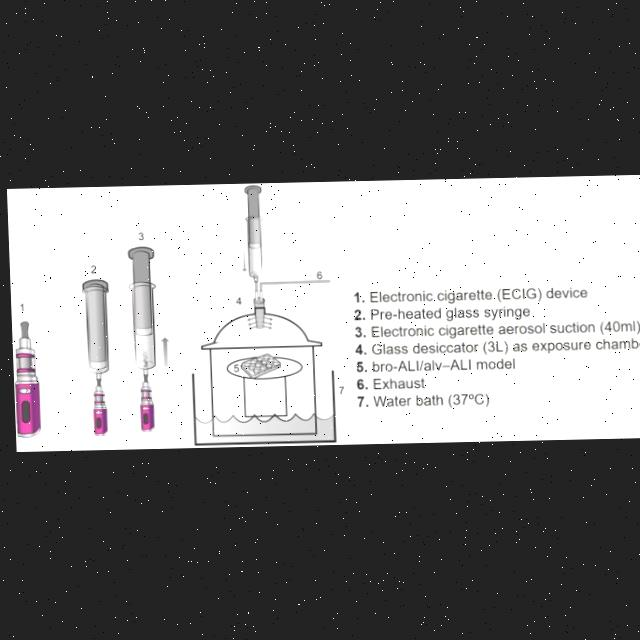vape: (9, 320, 39, 438), (135, 362, 152, 433), (88, 368, 103, 437)
